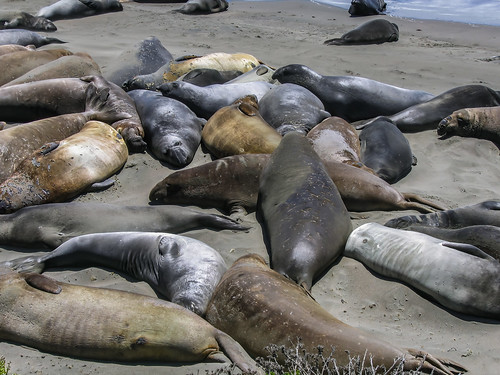animal: (54, 224, 236, 316), (261, 125, 346, 301), (1, 125, 126, 209), (270, 60, 434, 112), (133, 84, 194, 165), (118, 52, 262, 86), (289, 16, 433, 50)
